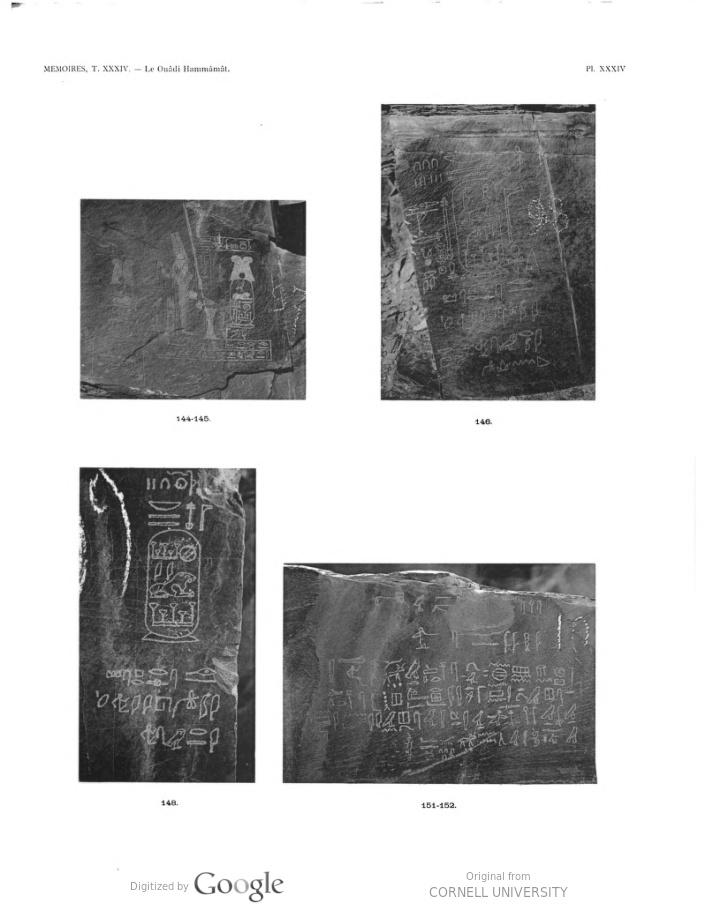circle: (444, 170, 527, 298), (138, 518, 209, 660), (226, 272, 271, 336)
